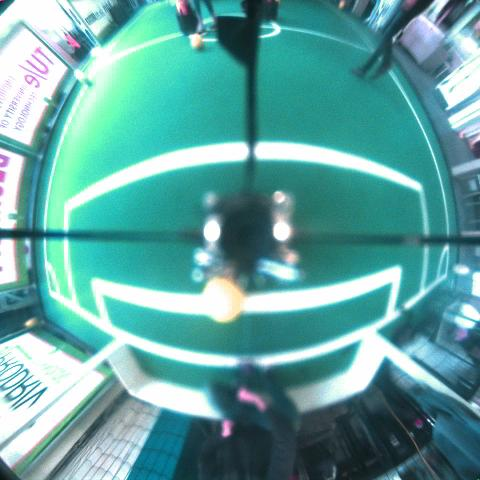ball: (203, 279, 246, 322), (189, 34, 205, 50), (75, 70, 88, 85), (25, 316, 39, 326), (338, 2, 345, 9)
goal: (0, 339, 128, 445), (361, 327, 479, 417)
person: (350, 1, 436, 80), (193, 0, 205, 33), (205, 0, 217, 27)
robot: (61, 29, 90, 59), (175, 0, 199, 35), (259, 0, 279, 20)
